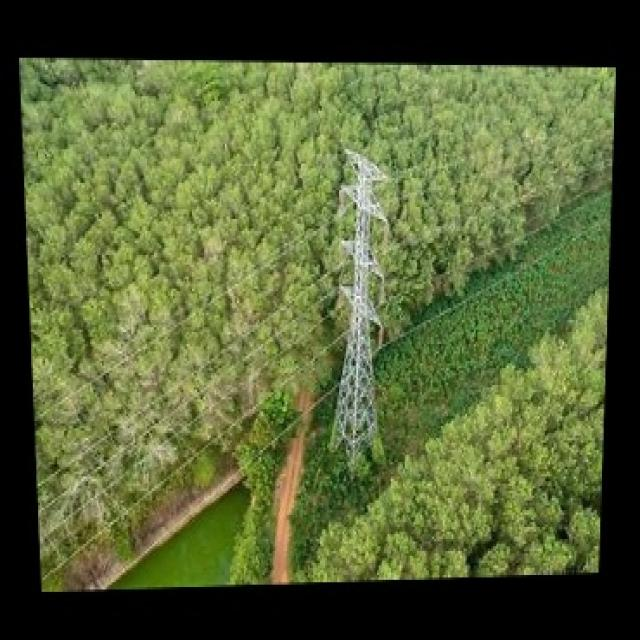utility poles: (325, 117, 400, 474)
